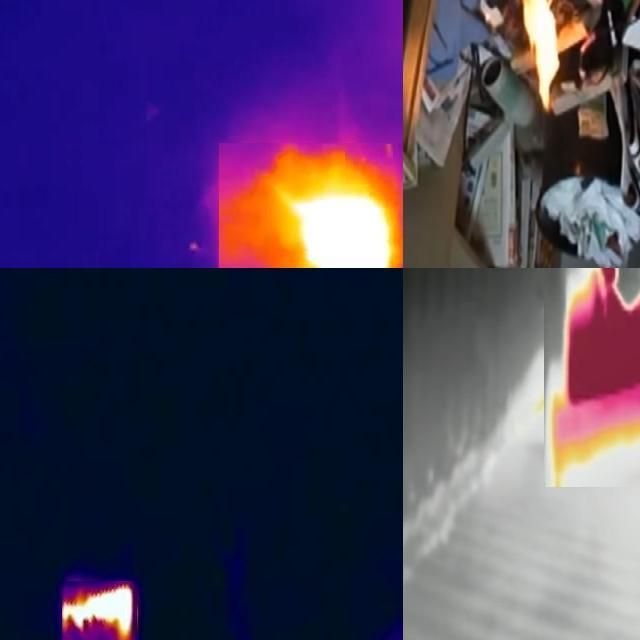fire: (220, 144, 404, 269), (545, 269, 640, 487), (63, 582, 138, 640)
